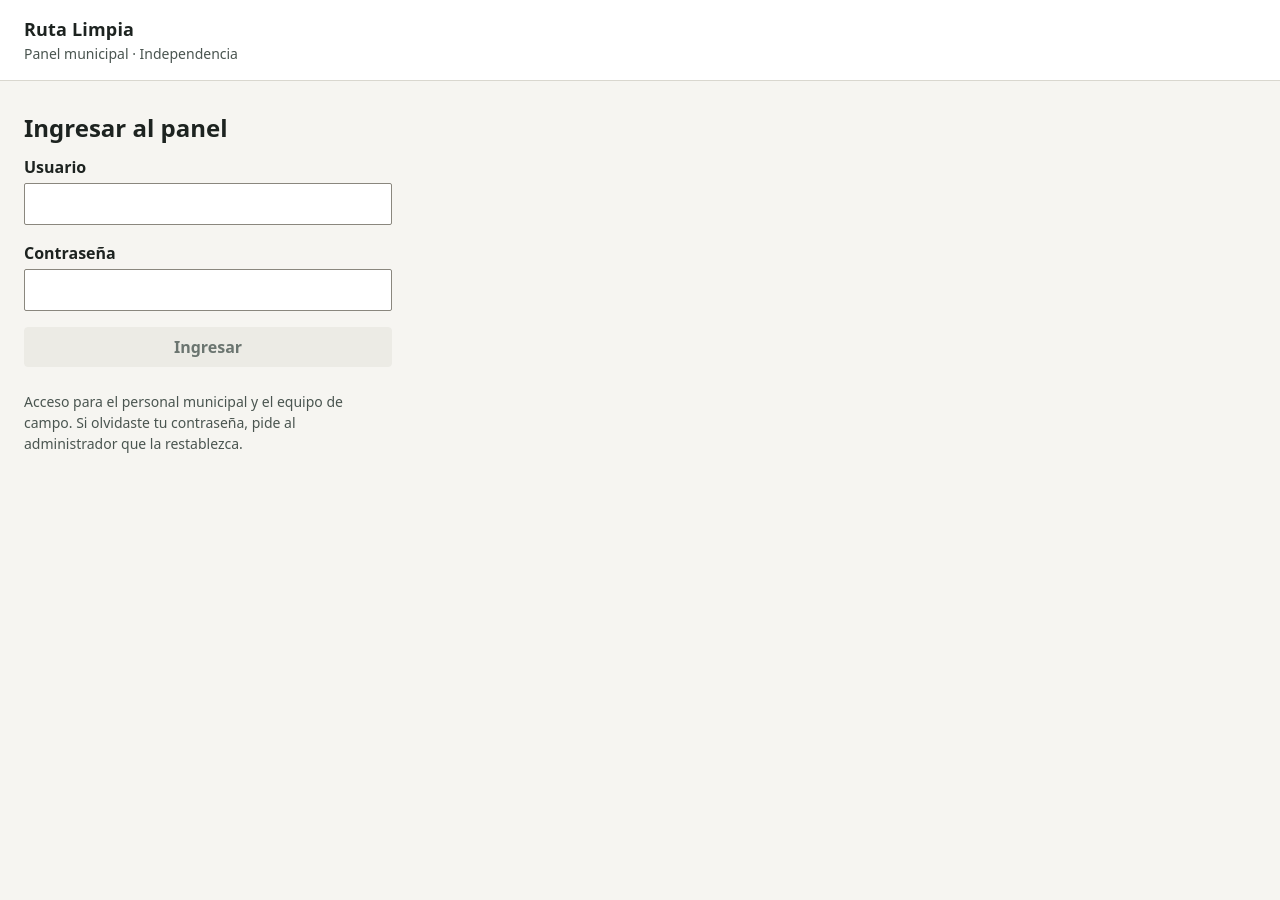
Test: panel sign-in and session › sends a signed-out visitor to the sign-in page and back to the page they asked for
The image size is (1280, 900).
Expected: the heading "Ingresar al panel" is shown, [24,111,228,144]
In the field labelled "Usuario": point(208, 204) [24,183,392,225], type "ana.torres"
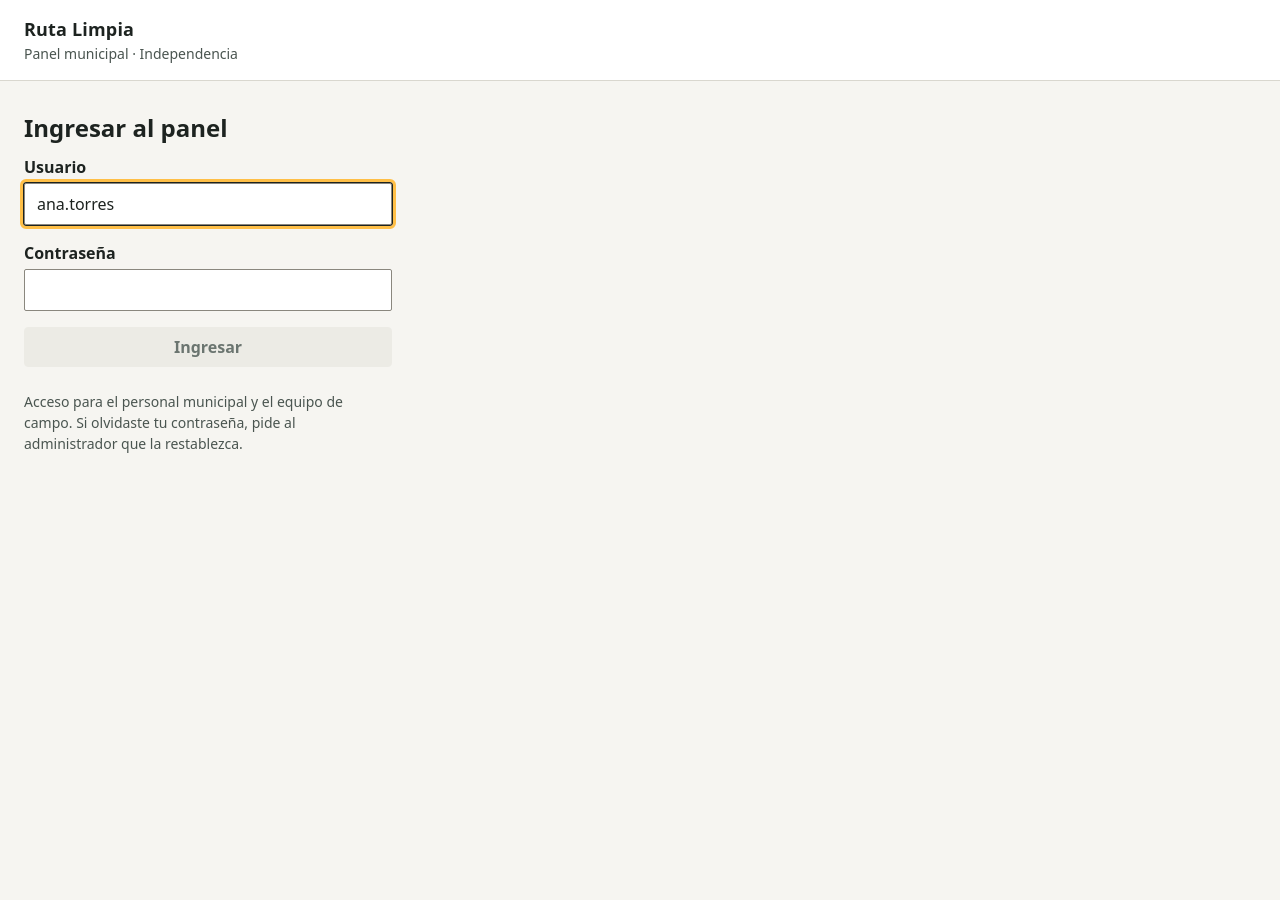
In the password field labelled "Contraseña": point(208, 290) [24,269,392,311], type "a long passphrase"
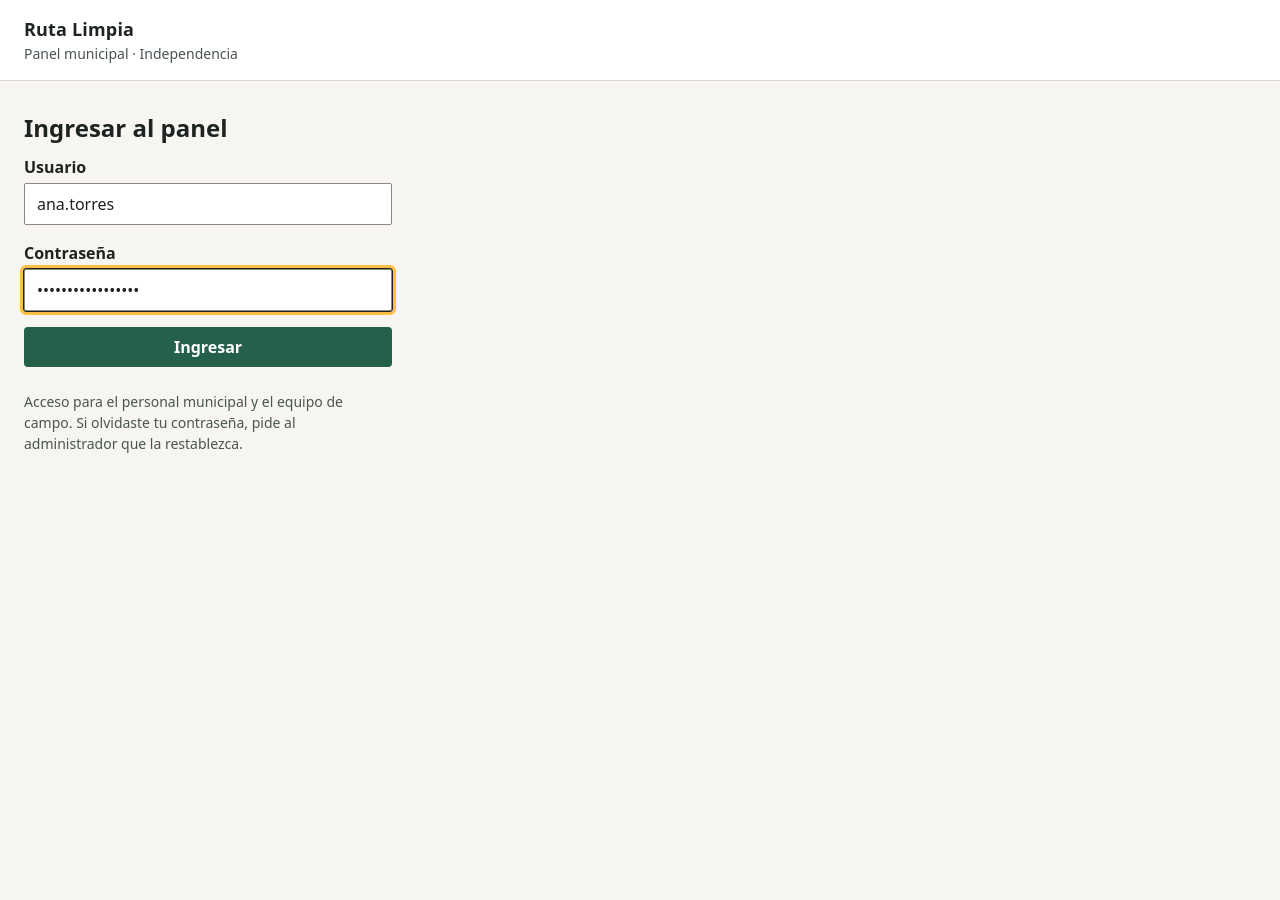
Click the button "Ingresar": point(208, 347) [24,327,392,367]
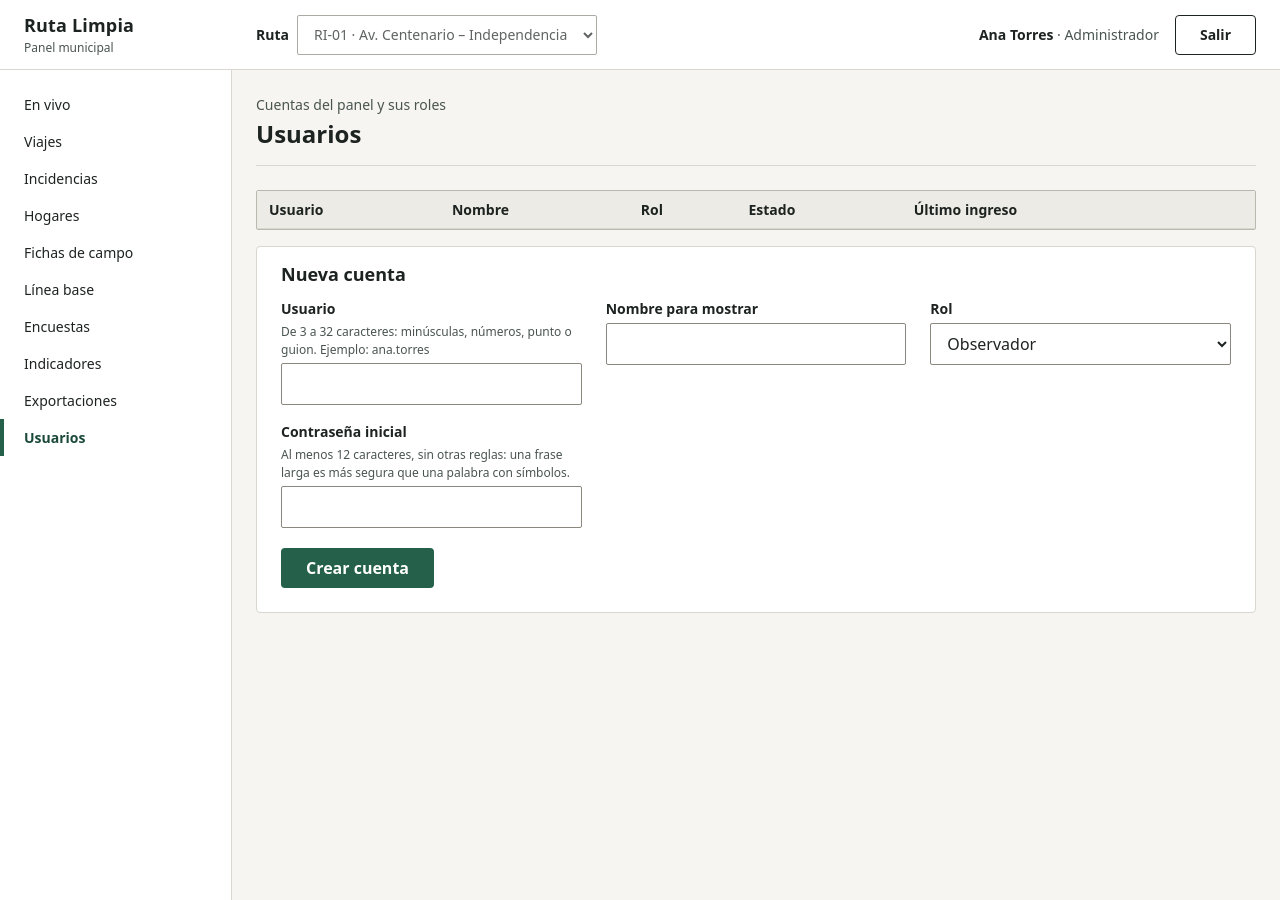
Now the heading "Usuarios" is shown, box [256,117,361,150]
